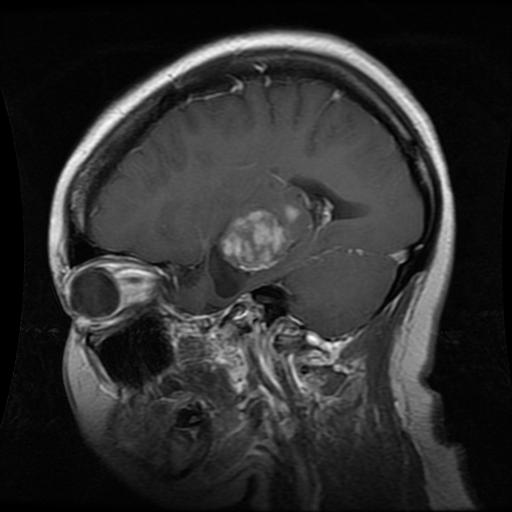Gliomia_tumour: (207, 209, 290, 299)
